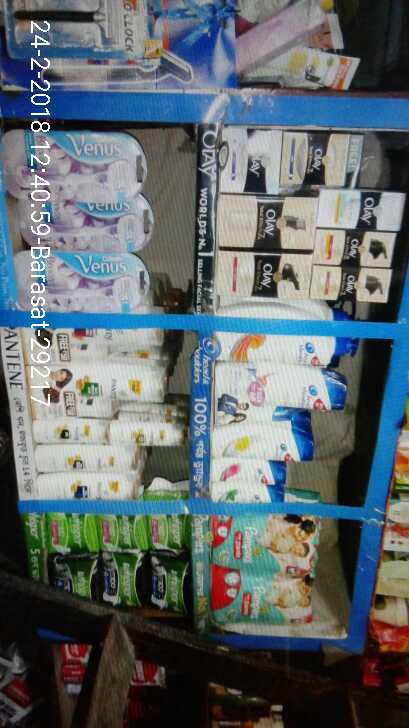venus: (4, 134, 150, 199), (13, 257, 148, 310), (11, 205, 152, 254)
